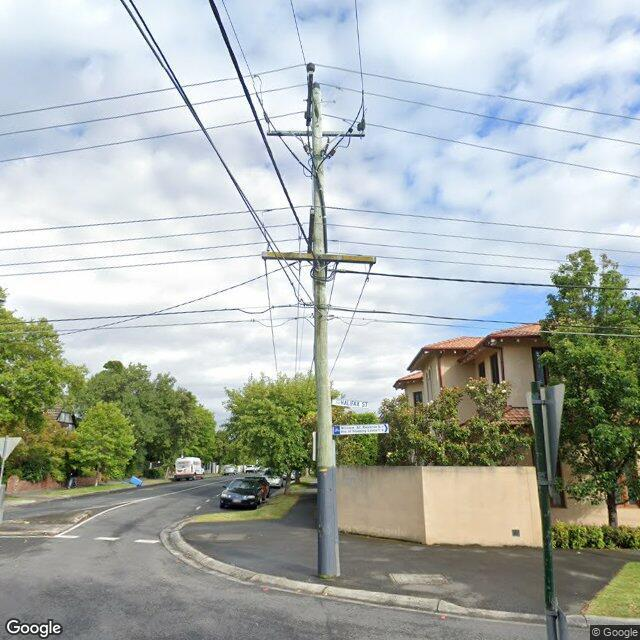HV-transmission: (304, 63, 320, 119)
crossarm: (262, 251, 376, 264), (267, 130, 365, 136), (306, 73, 314, 126), (308, 208, 314, 254)
timber-pole: (313, 88, 336, 578)
